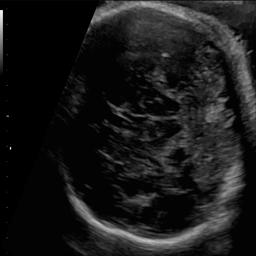normal: (74, 0, 256, 251)
